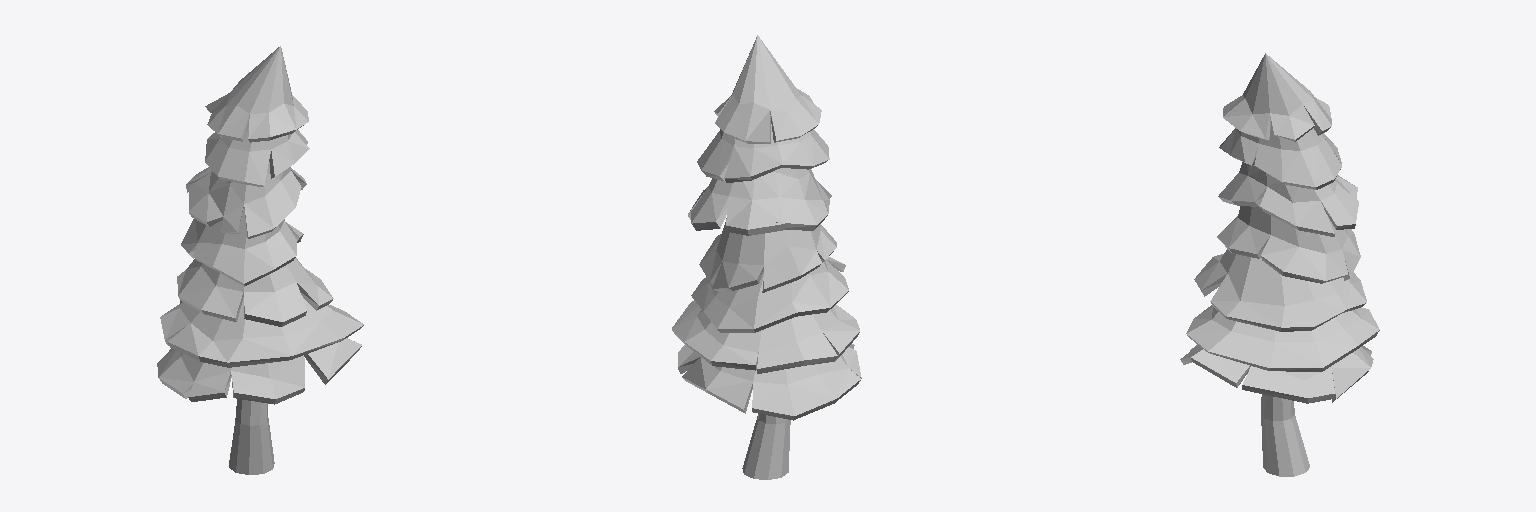
Rendered from Tree_4.obj.
3 renders of one model, left to right at view 1: azimuth 30°, elevation 25°; view 2: azimuth 150°, elevation 25°; view 3: azimuth 270°, elevation 25°, orthographic.
Visible parts, largest first — view 1: Tree_4; view 2: Tree_4; view 3: Tree_4.
Boxes of the visible parts, <box> form: Tree_4: <box>157,46,363,474</box>; Tree_4: <box>672,35,861,479</box>; Tree_4: <box>1180,53,1379,476</box>.
Bounding box in the file's own units: 2.45 × 5.93 × 2.54.